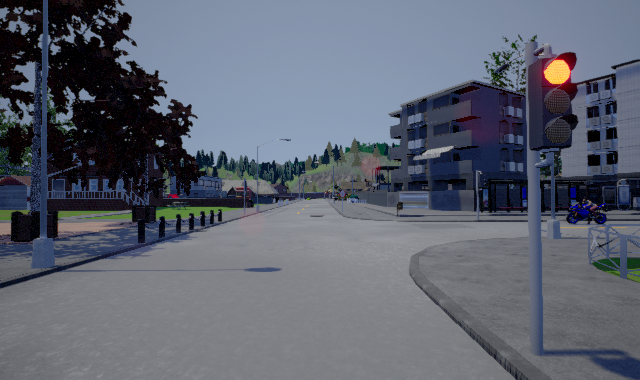motobike: (566, 202, 608, 224)
traffic_light: (528, 50, 579, 150)
traffic_sign: (339, 189, 346, 198)
